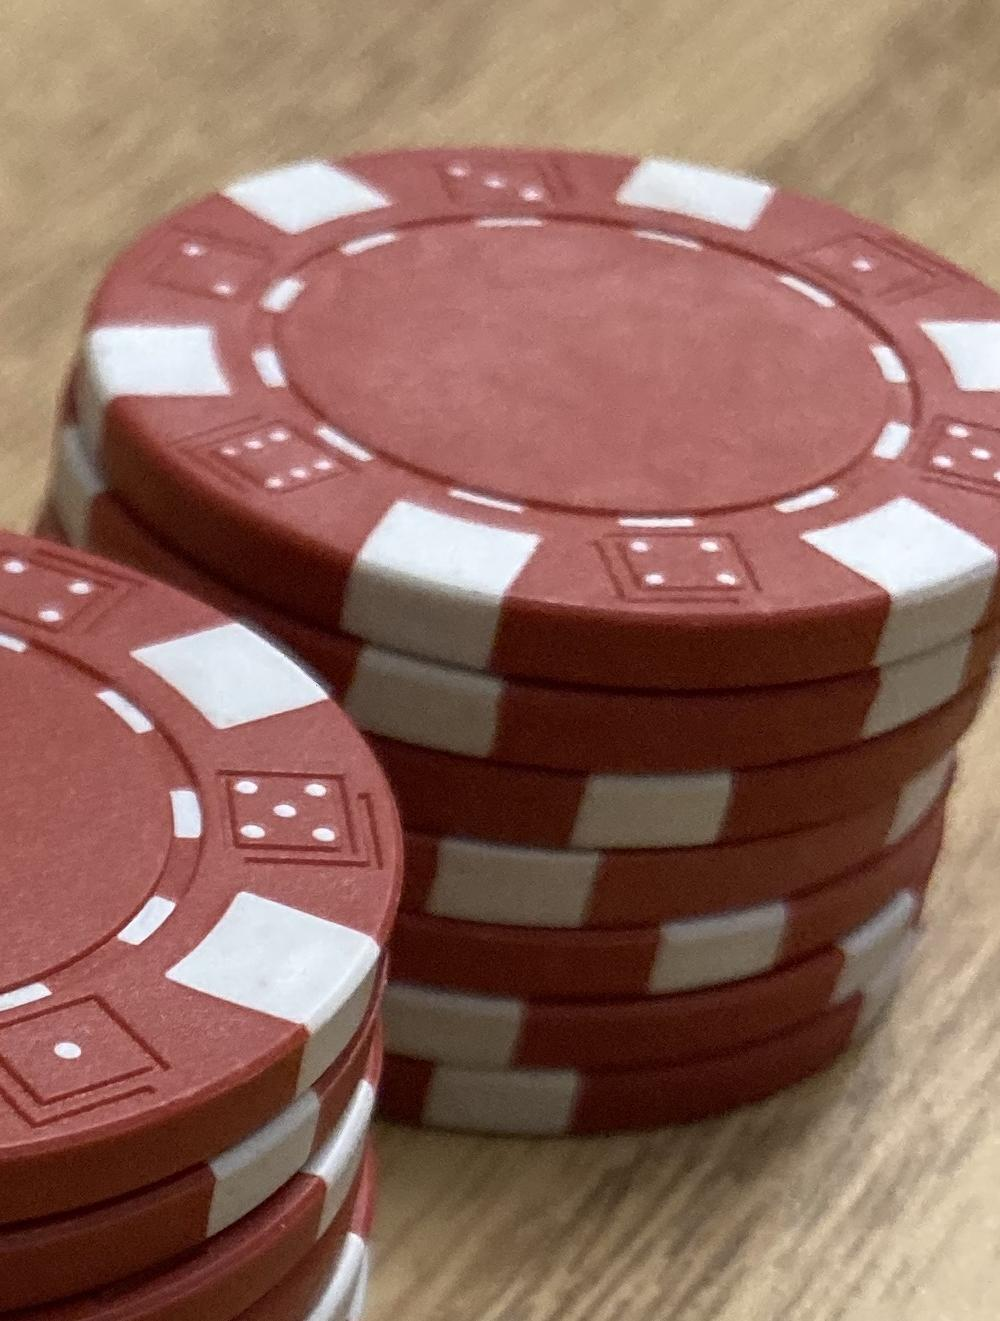Chip: (1, 1, 1000, 1321)
